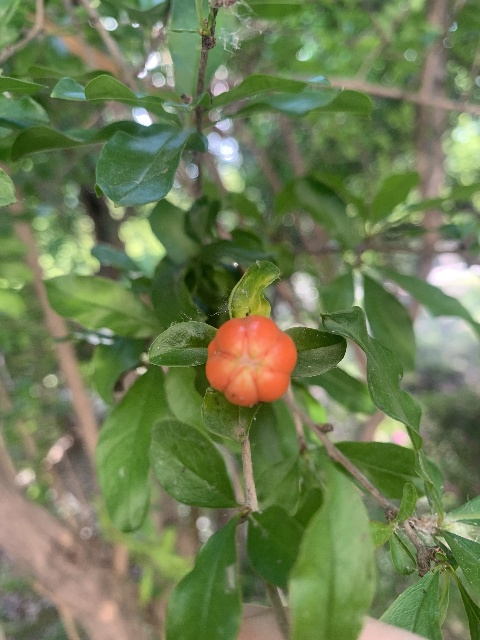bud: (206, 315, 296, 407)
